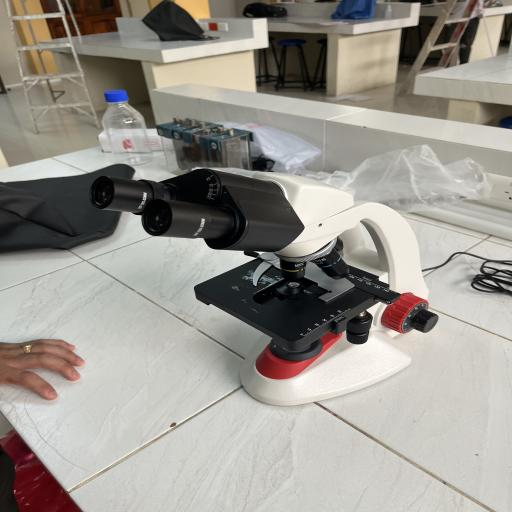Microscopio_Binocular: (80, 159, 456, 418)
